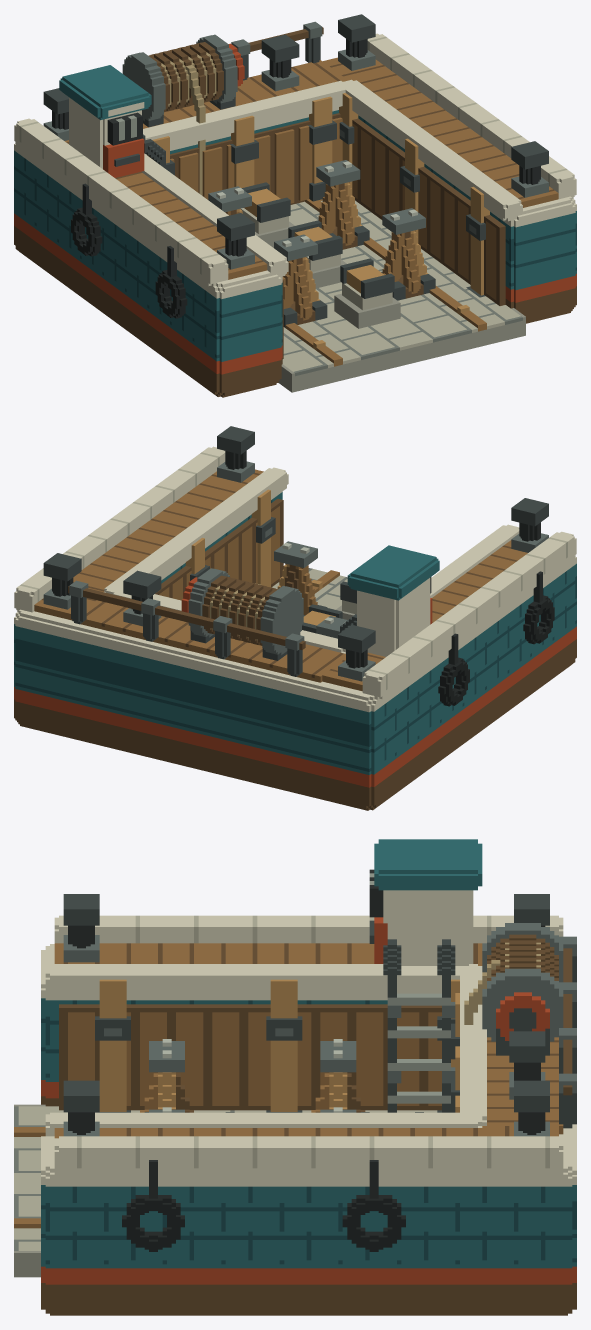
The model's file is repair_dock.glb.
3 views of the same model, one above another, from view 1: azimuth 30°, elevation 25°; view 2: azimuth 150°, elevation 25°; view 3: azimuth 270°, elevation 25° (orthographic). The views are drawn at different scales.
Parts seen in each view (by area): view 1: repair_dock; view 2: repair_dock; view 3: repair_dock.
Part boxes in pixels (bbox=[...]): repair_dock: bbox=[14, 14, 576, 397]; repair_dock: bbox=[14, 426, 576, 810]; repair_dock: bbox=[14, 839, 576, 1315].
Size of the model in its own units: 12.6 by 6.3 by 12.5.
